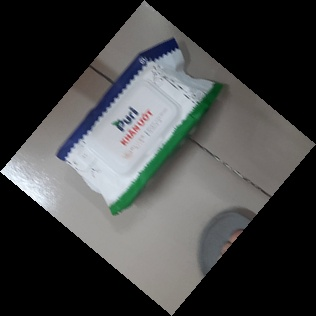Puri Trang: (55, 36, 228, 217)
